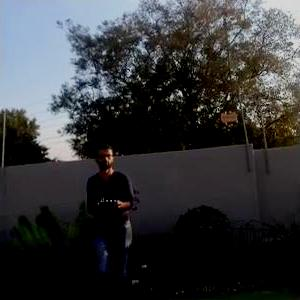follow: (83, 140, 144, 298)
